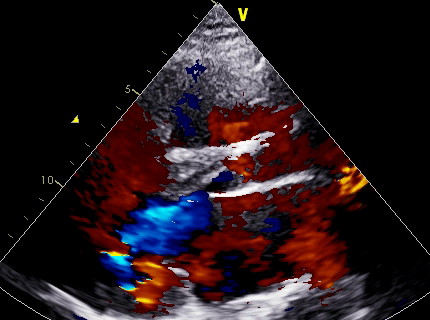AR: (216, 134, 323, 192)
